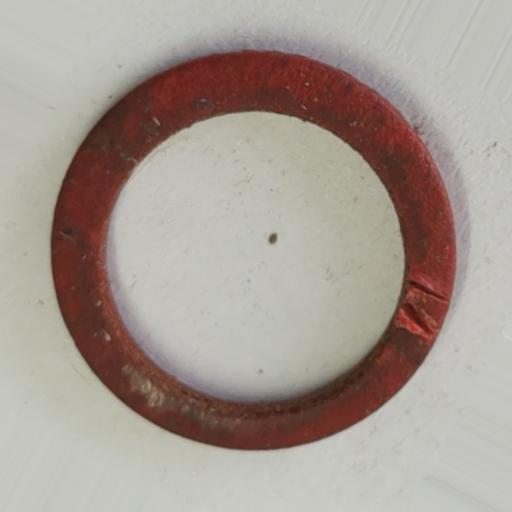defect: (394, 276, 450, 346)
